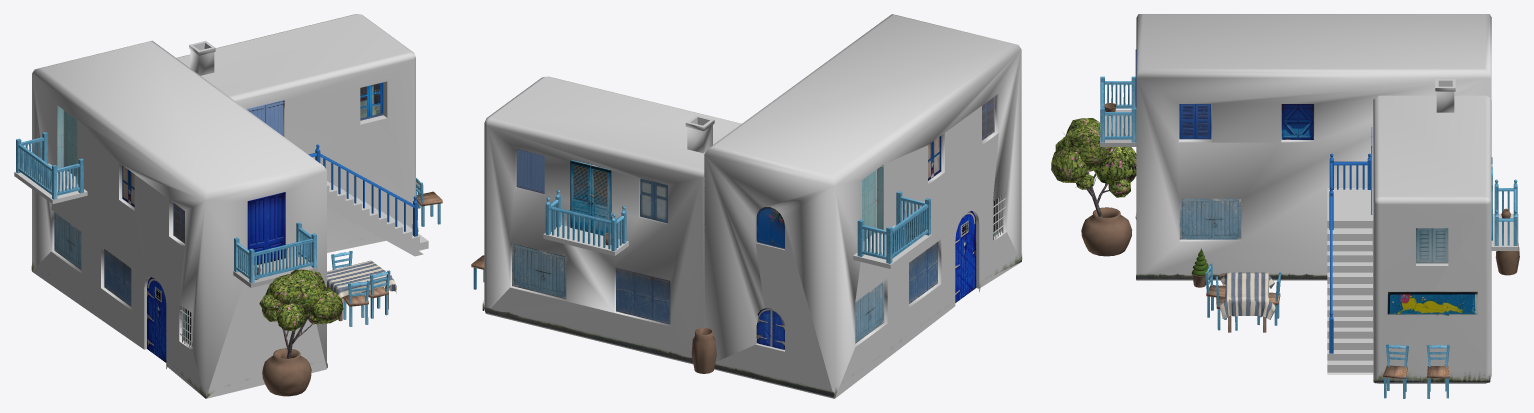
The model's file is sf-medwhite.glb.
3 renders of one model, left to right at view 1: azimuth 30°, elevation 25°; view 2: azimuth 150°, elevation 25°; view 3: azimuth 270°, elevation 25°, orthographic. The views are drawn at different scales.
Visible parts, largest first — view 1: House; view 2: House; view 3: House.
Boxes of the visible parts, x1,y1,x2,y2 form: House: [14, 14, 442, 398]; House: [471, 14, 1022, 398]; House: [1051, 14, 1519, 398].
Size of the model in its own units: 14.01 by 7 by 14.1.
Materials: 25 (21 with a texture image).
